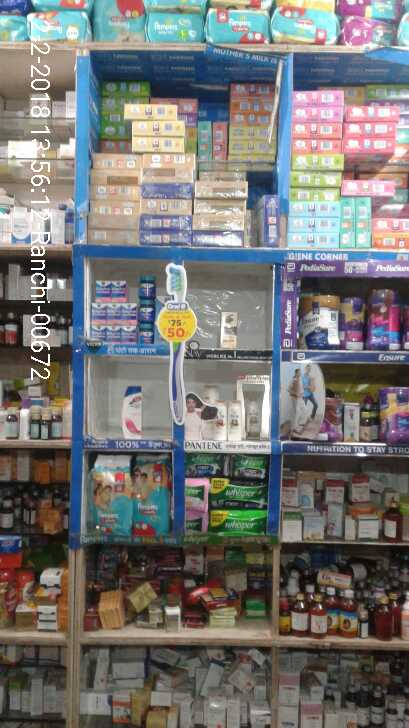beauty: (116, 379, 150, 442), (238, 374, 268, 440), (206, 387, 238, 444)
pharmacy: (82, 457, 134, 537), (136, 457, 176, 534), (211, 473, 264, 509), (211, 509, 266, 536), (86, 273, 129, 302), (89, 319, 135, 346), (83, 300, 136, 322), (135, 269, 163, 300), (131, 299, 163, 321), (137, 323, 160, 346)
